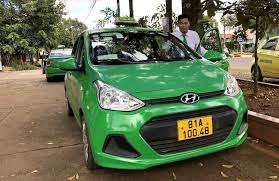Car number plates: (178, 118, 213, 140)
